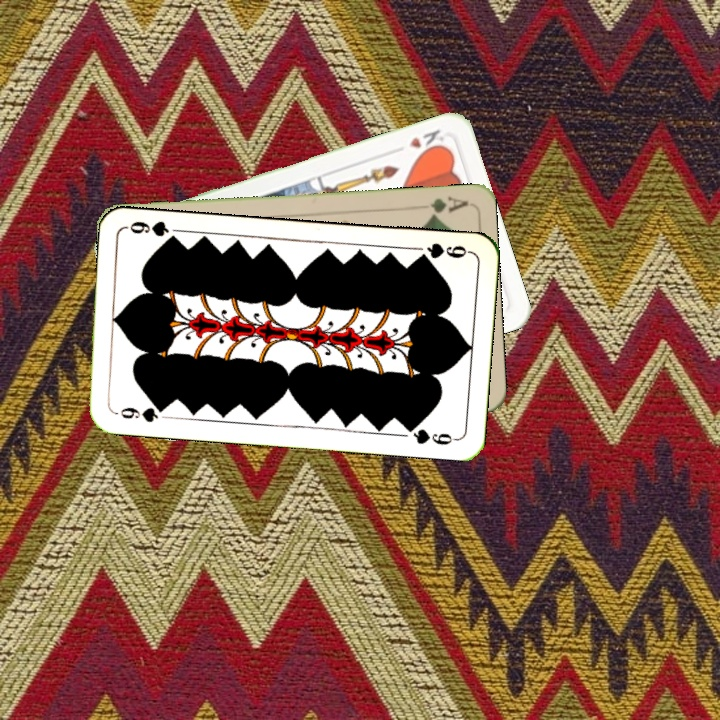G9: (413, 238, 473, 263), (110, 401, 170, 425)
GA: (425, 192, 469, 220)
HK: (405, 125, 448, 157)
